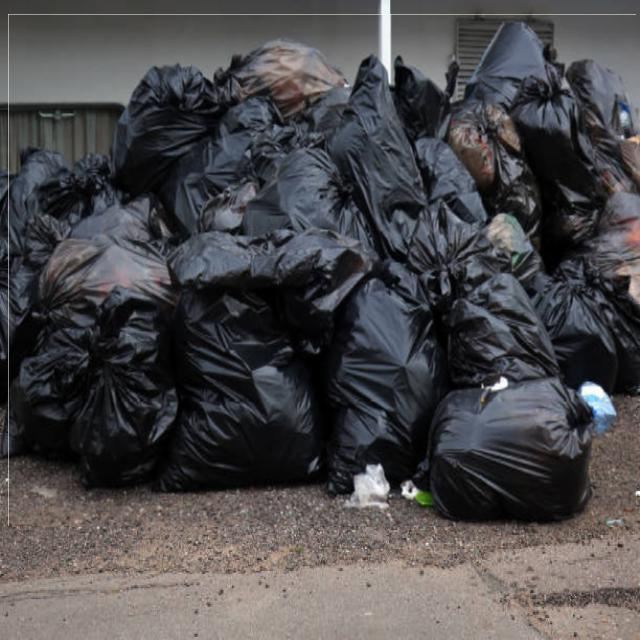Trashbag: (153, 278, 338, 503), (428, 384, 591, 524), (321, 294, 438, 489), (76, 308, 168, 492), (50, 204, 175, 326), (433, 275, 559, 389), (113, 58, 208, 179), (547, 270, 638, 394), (254, 155, 366, 252), (180, 108, 270, 227), (9, 334, 92, 463), (348, 76, 423, 210), (2, 138, 96, 244), (464, 27, 548, 113), (526, 92, 586, 181), (483, 136, 539, 228)
